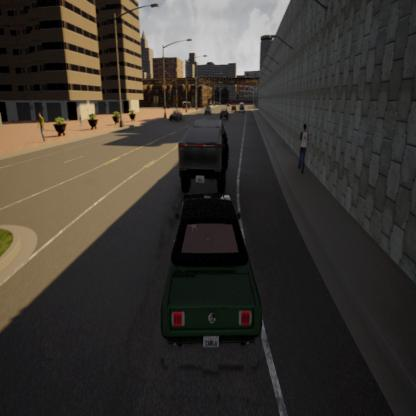Cars: (160, 200, 262, 349), (178, 122, 227, 193), (168, 108, 182, 124), (238, 101, 246, 115), (220, 106, 228, 120), (204, 102, 212, 114), (231, 102, 237, 111)
Pedestrian: (299, 122, 309, 174), (36, 111, 48, 145), (115, 112, 120, 131), (78, 116, 84, 129)
